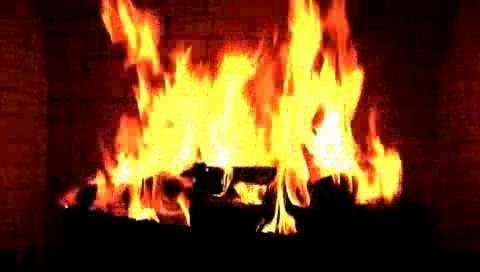fire: (103, 20, 382, 222)
